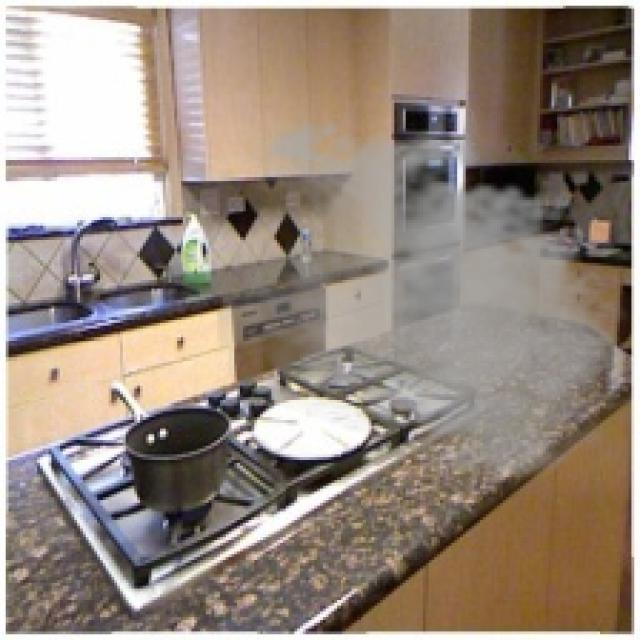smoke: (217, 109, 637, 488)
